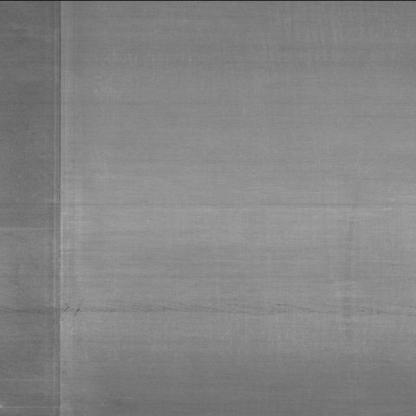welding_line: (40, 0, 76, 414)
